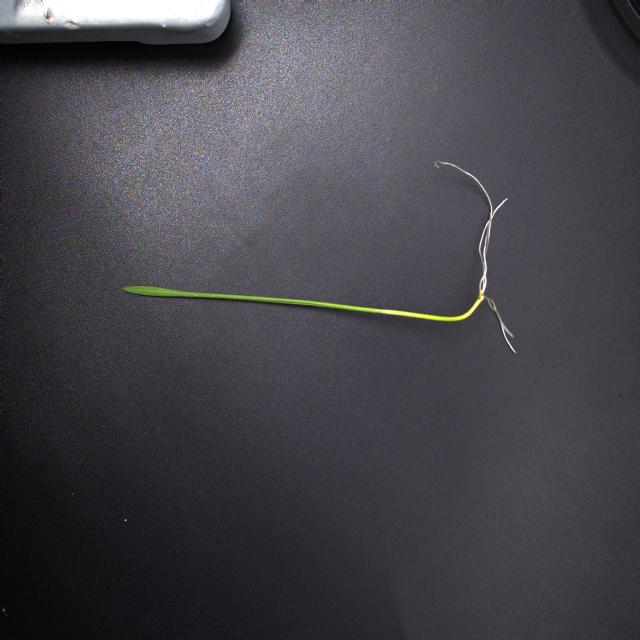leaf: (121, 284, 371, 317)
root: (434, 151, 524, 358)
steb: (369, 296, 485, 321)
